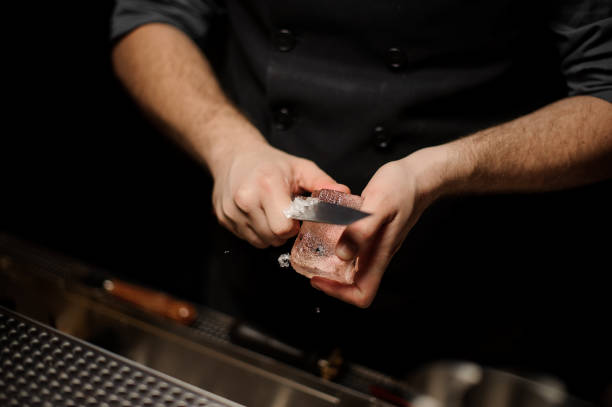knife: (290, 194, 373, 226)
